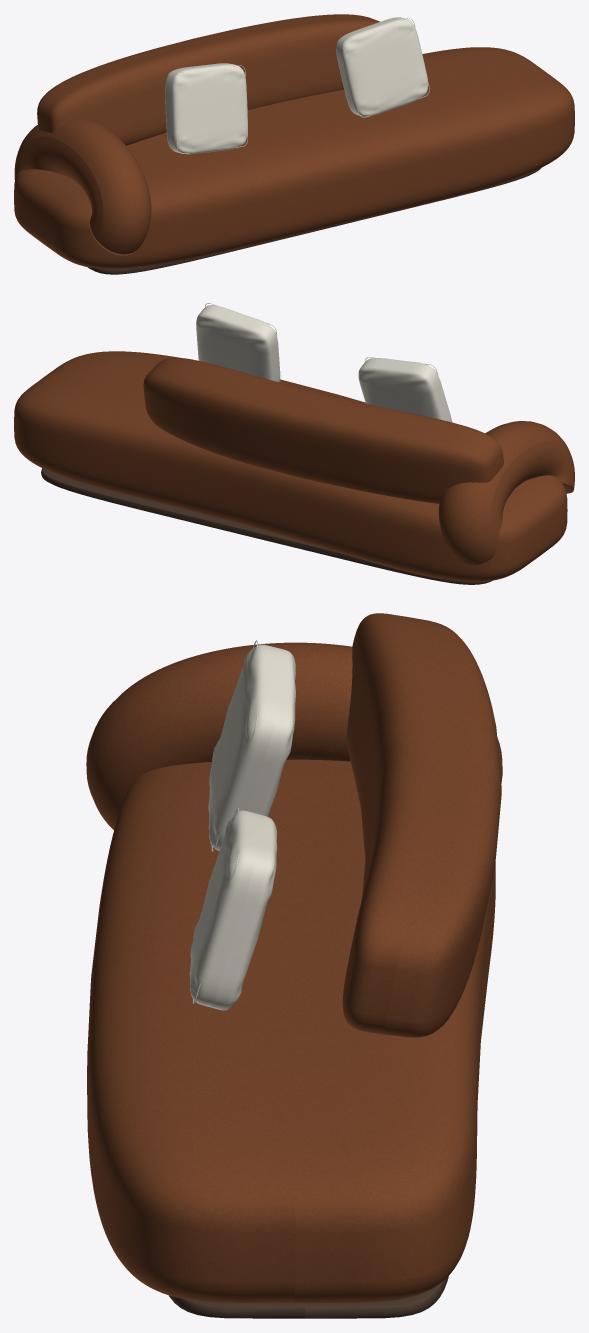
Rendered from V07_sofa_photo_reconstruction.glb.
3 views of the same model, one above another, from view 1: azimuth 30°, elevation 25°; view 2: azimuth 150°, elevation 25°; view 3: azimuth 270°, elevation 25° (orthographic). The views are drawn at different scales.
Visible parts, largest first — view 1: Warm caramel fine-grain leather, Ivory scatter cushion linen, Recessed dark underside; view 2: Warm caramel fine-grain leather, Ivory scatter cushion linen, Recessed dark underside; view 3: Warm caramel fine-grain leather, Ivory scatter cushion linen, Recessed dark underside.
Part boxes in pixels (x1,y1,x2,y2): Warm caramel fine-grain leather: (14,14,574,269); Ivory scatter cushion linen: (165,17,428,154); Recessed dark underside: (87,168,540,274); Warm caramel fine-grain leather: (14,351,574,581); Ivory scatter cushion linen: (196,305,451,422); Recessed dark underside: (41,468,492,584); Warm caramel fine-grain leather: (86,613,502,1303); Ivory scatter cushion linen: (189,644,295,1010); Recessed dark underside: (169,1276,448,1318).
Size of the model in its own units: 3.12 by 1.01 by 1.11.
5 materials, 2 textured.
